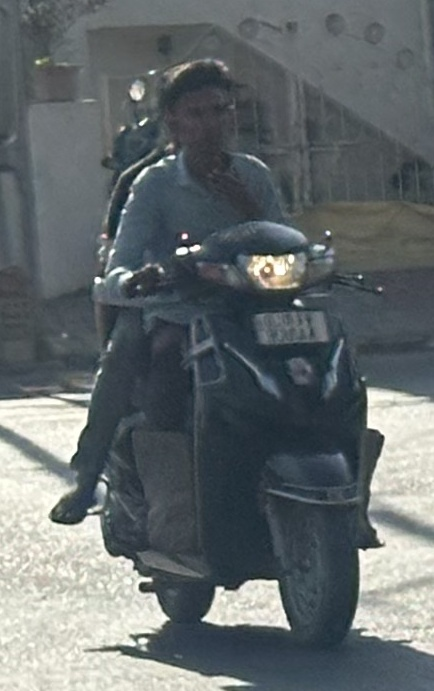BikeWithRider: (40, 48, 397, 657)
NoHelmet: (151, 52, 250, 166)
